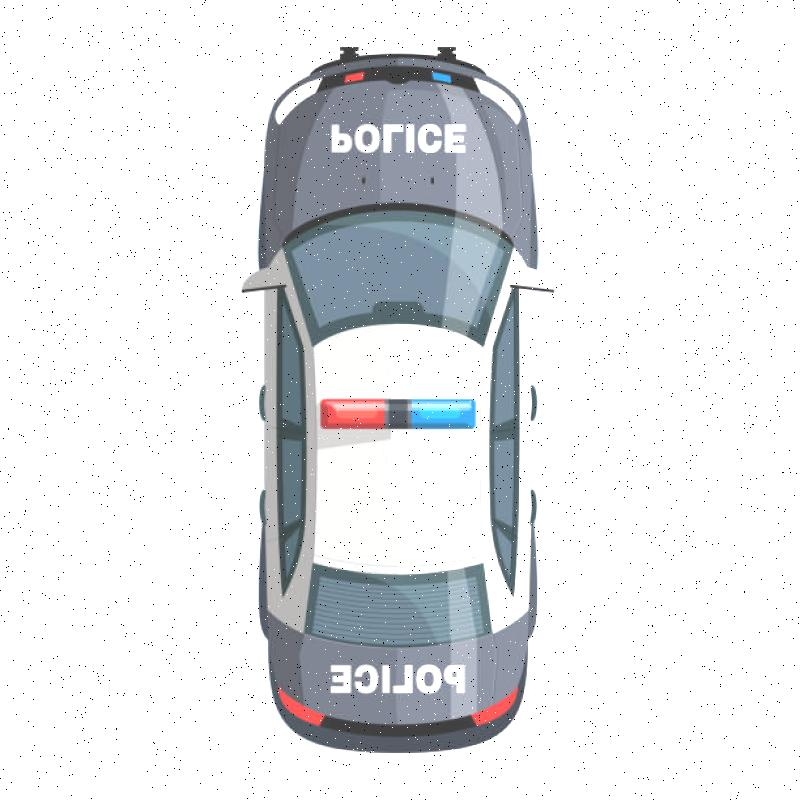AmbulanceSiren: (311, 378, 484, 445)
